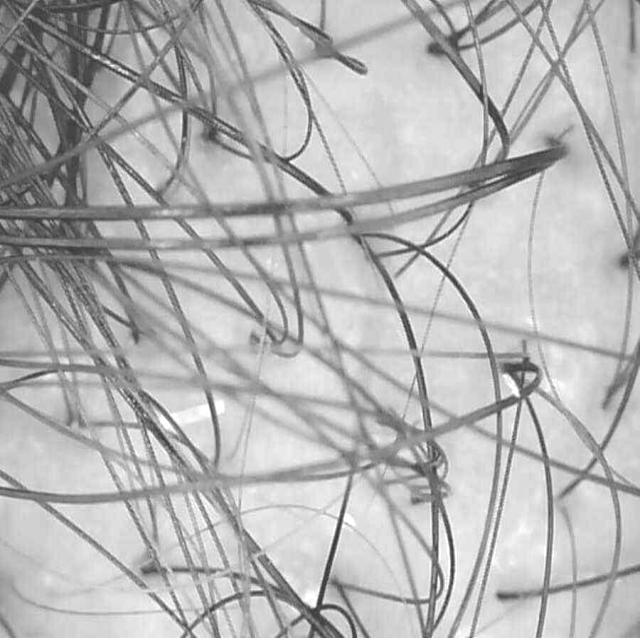d: (500, 372, 522, 400)
